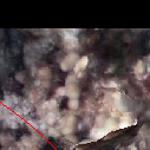alive: (1, 31, 148, 147)
